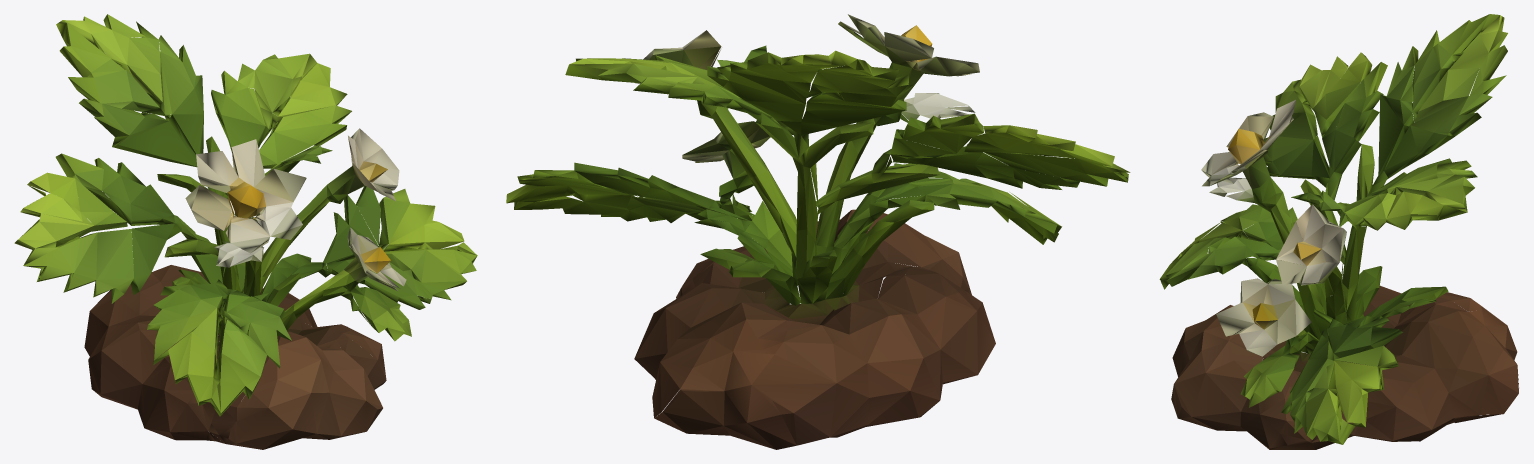
The model's file is building-garden-flower.glb.
3 renders of one model, left to right at view 1: azimuth 30°, elevation 25°; view 2: azimuth 150°, elevation 25°; view 3: azimuth 270°, elevation 25°, orthographic. The views are drawn at different scales.
Visible parts, largest first — view 1: 0_garden-flower; view 2: 0_garden-flower; view 3: 0_garden-flower.
Part boxes in pixels (left/top/right/bottom): 0_garden-flower: left=14, top=14, right=477, bottom=449; 0_garden-flower: left=506, top=14, right=1130, bottom=449; 0_garden-flower: left=1159, top=14, right=1518, bottom=449.
Size of the model in its own units: 0.35 by 0.2342 by 0.2266.
